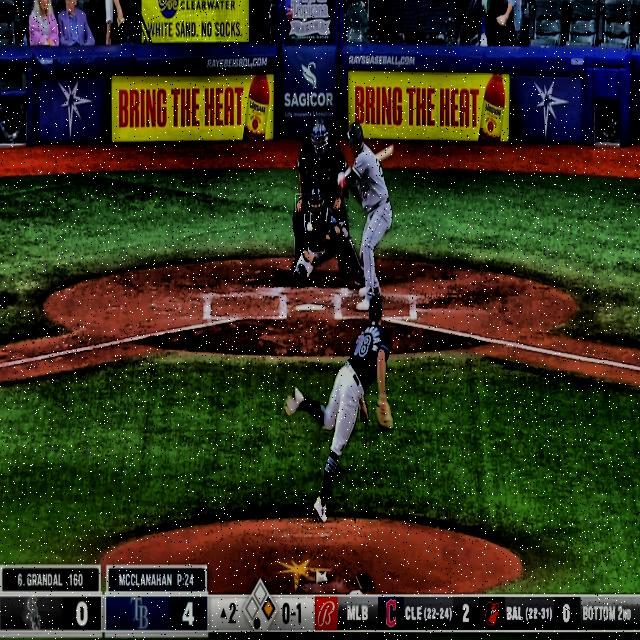baseball: (307, 222, 313, 234)
